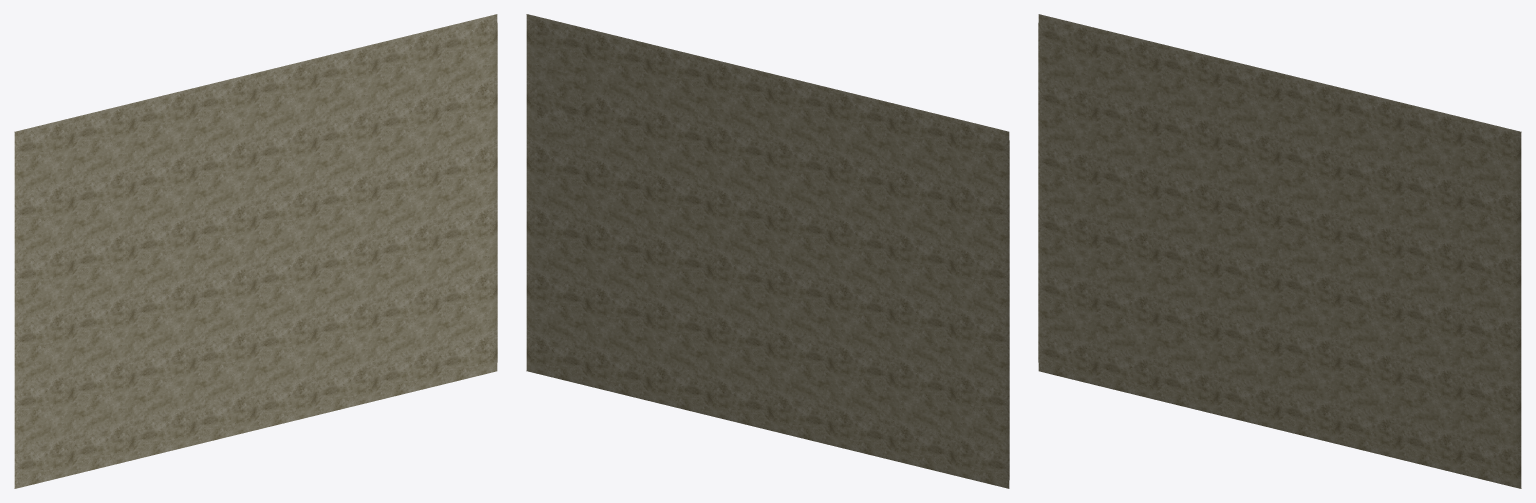
Rendered from tapete.obj.
3 renders of one model, left to right at view 1: azimuth 30°, elevation 25°; view 2: azimuth 150°, elevation 25°; view 3: azimuth 330°, elevation 25°, orthographic.
Visible parts, largest first — view 1: Architectural_Model_008_05_Carpet; view 2: Architectural_Model_008_05_Carpet; view 3: Architectural_Model_008_05_Carpet.
Boxes of the visible parts, x1=… form: Architectural_Model_008_05_Carpet: x1=14, y1=14, x2=497, y2=488; Architectural_Model_008_05_Carpet: x1=526, y1=14, x2=1009, y2=488; Architectural_Model_008_05_Carpet: x1=1038, y1=14, x2=1521, y2=488.
Bounding box in the file's own units: 2386 × 1686 × 10.
Materials: 1 (1 with a texture image).
